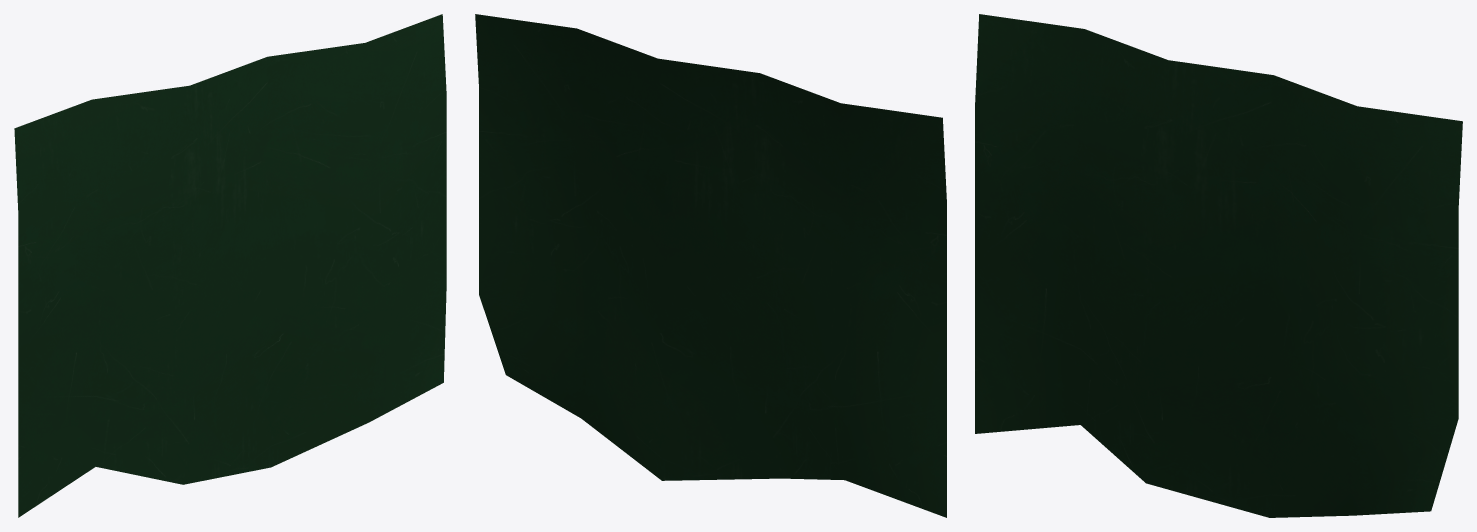
Rendered from telo.fbx.
3 renders of one model, left to right at view 1: azimuth 30°, elevation 25°; view 2: azimuth 150°, elevation 25°; view 3: azimuth 330°, elevation 25°, orthographic. The views are drawn at different scales.
Parts seen in each view (by area): view 1: Plane023; view 2: Plane023; view 3: Plane023.
Boxes of the visible parts, x1,y1,x2,y2 form: Plane023: (14, 14, 446, 517); Plane023: (475, 14, 946, 517); Plane023: (975, 14, 1462, 517).
Bounding box in the file's own units: 4.5 × 4 × 0.3496.
1 material, 1 textured.
